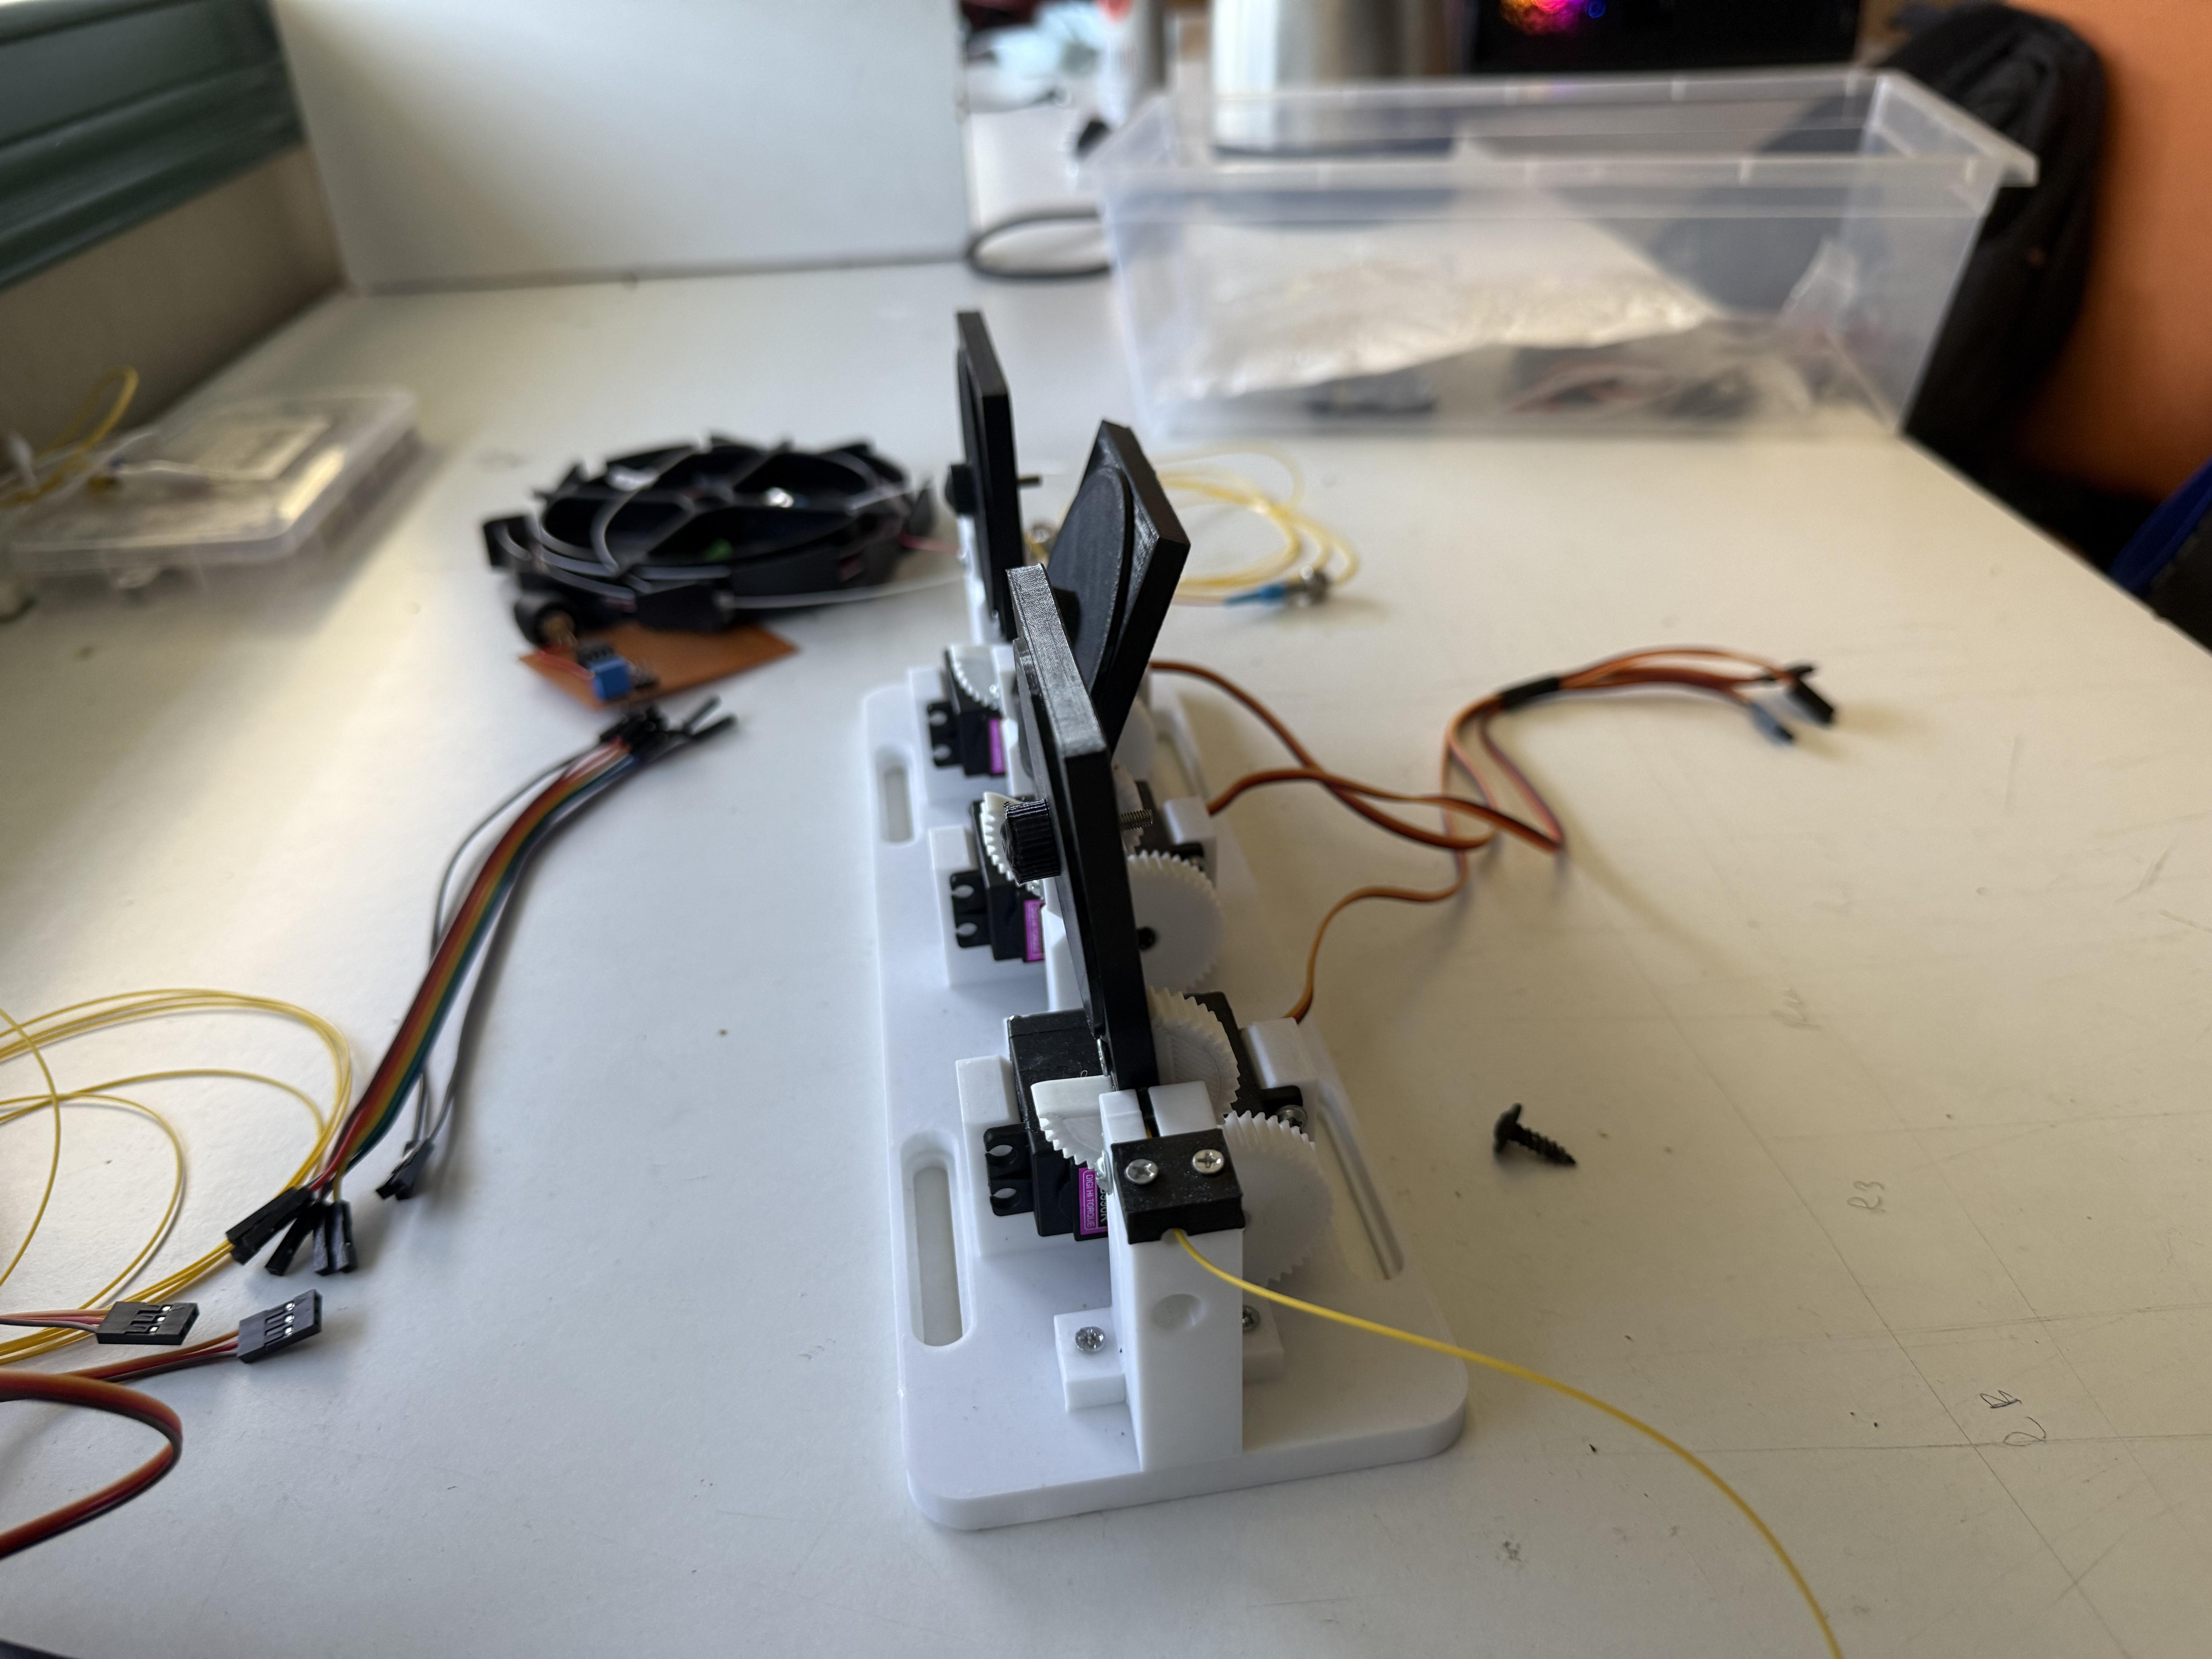paddle_polarization_controller: (770, 272, 1465, 1513)
